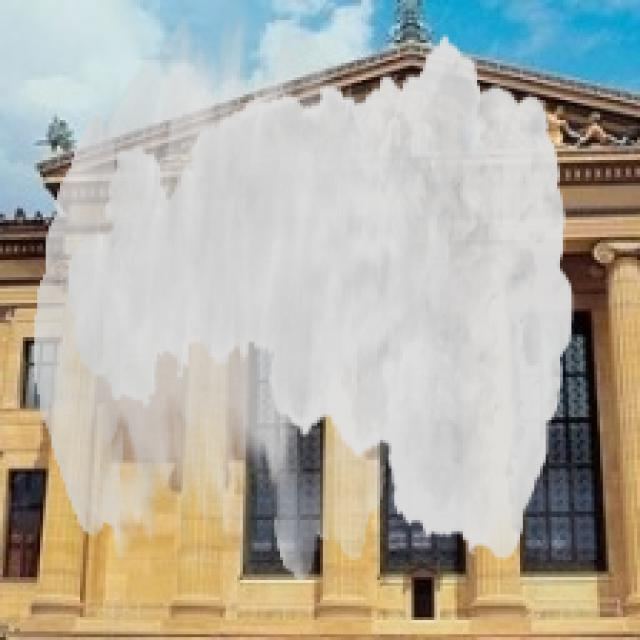smoke: (34, 11, 574, 580)
